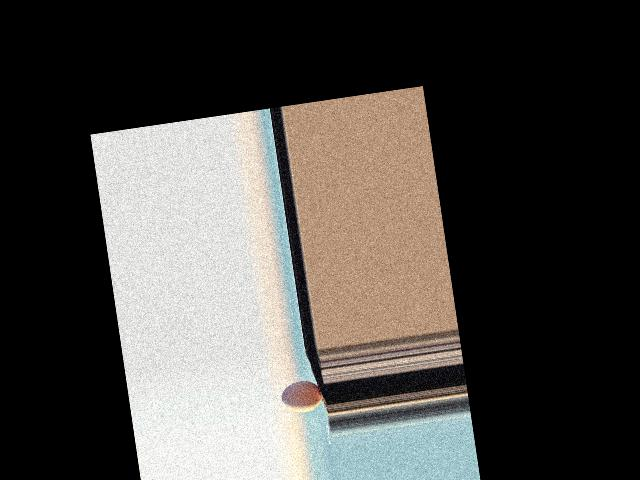egg: (279, 378, 323, 415)
